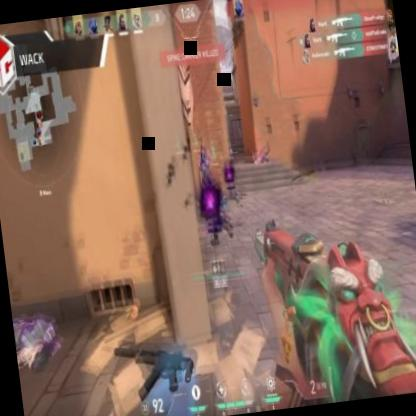enemy: (197, 146, 214, 200)
enemy_head: (200, 148, 205, 160)
